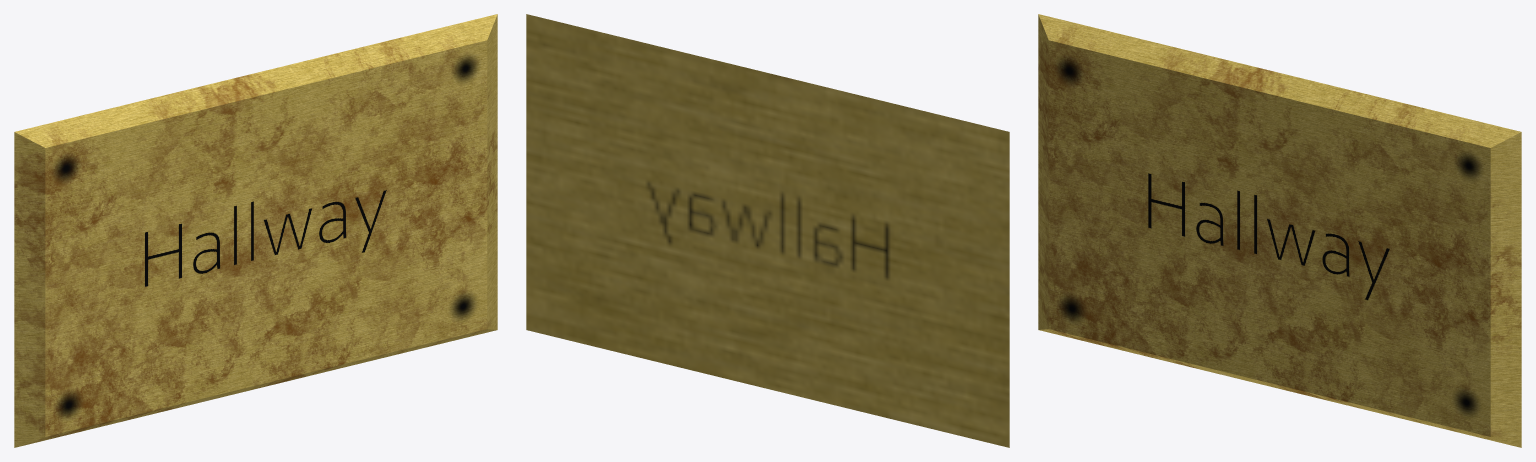
File: Hallway.fbx
3 views of the same model, side by side, from view 1: azimuth 30°, elevation 25°; view 2: azimuth 150°, elevation 25°; view 3: azimuth 330°, elevation 25° (orthographic).
Visible parts, largest first — view 1: Hallway; view 2: Hallway; view 3: Hallway.
Boxes of the visible parts, <box> form: Hallway: <box>14,14,497,447</box>; Hallway: <box>526,14,1009,447</box>; Hallway: <box>1038,14,1521,447</box>.
Bounding box in the file's own units: 80 × 49.98 × 2.97.
Materials: 1 (1 with a texture image).
